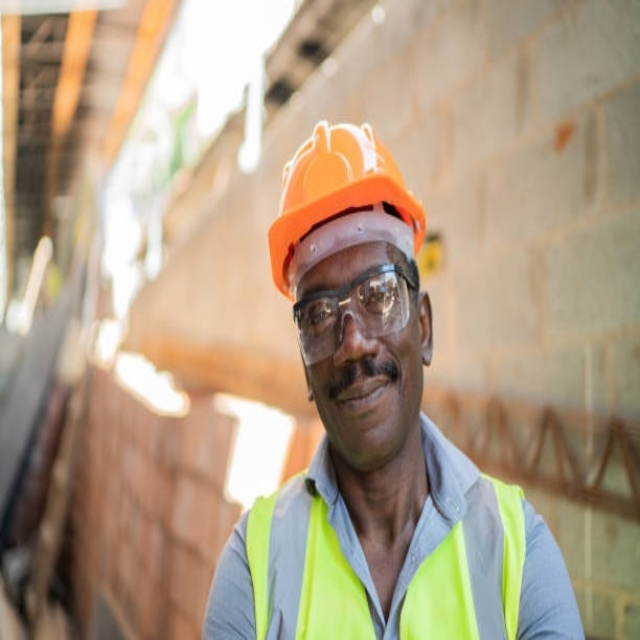Gafas: (292, 267, 420, 373)
Sin_mascara: (325, 365, 395, 427)
